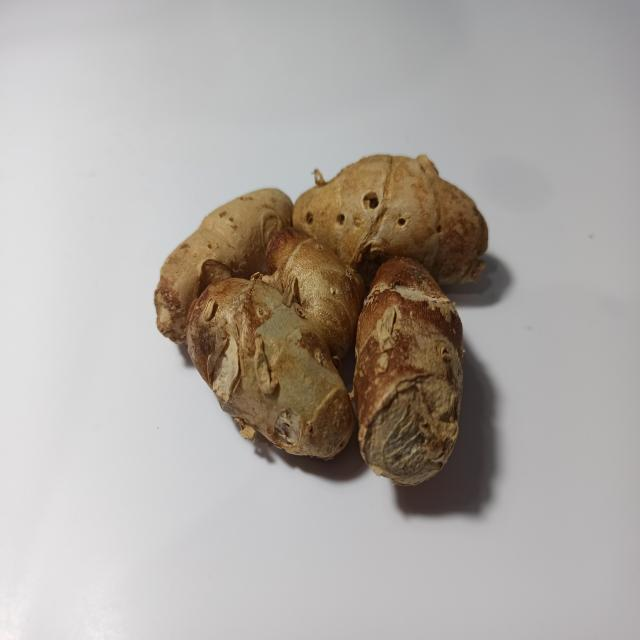ginger: (161, 150, 470, 469)
